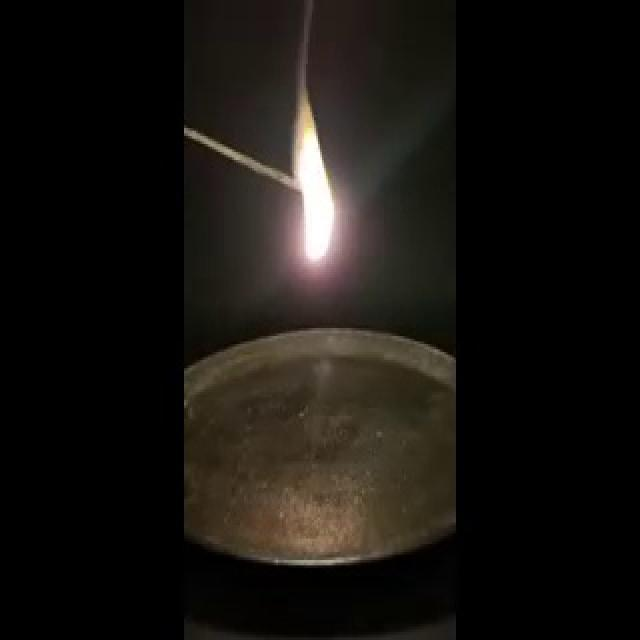fire: (286, 99, 346, 278)
